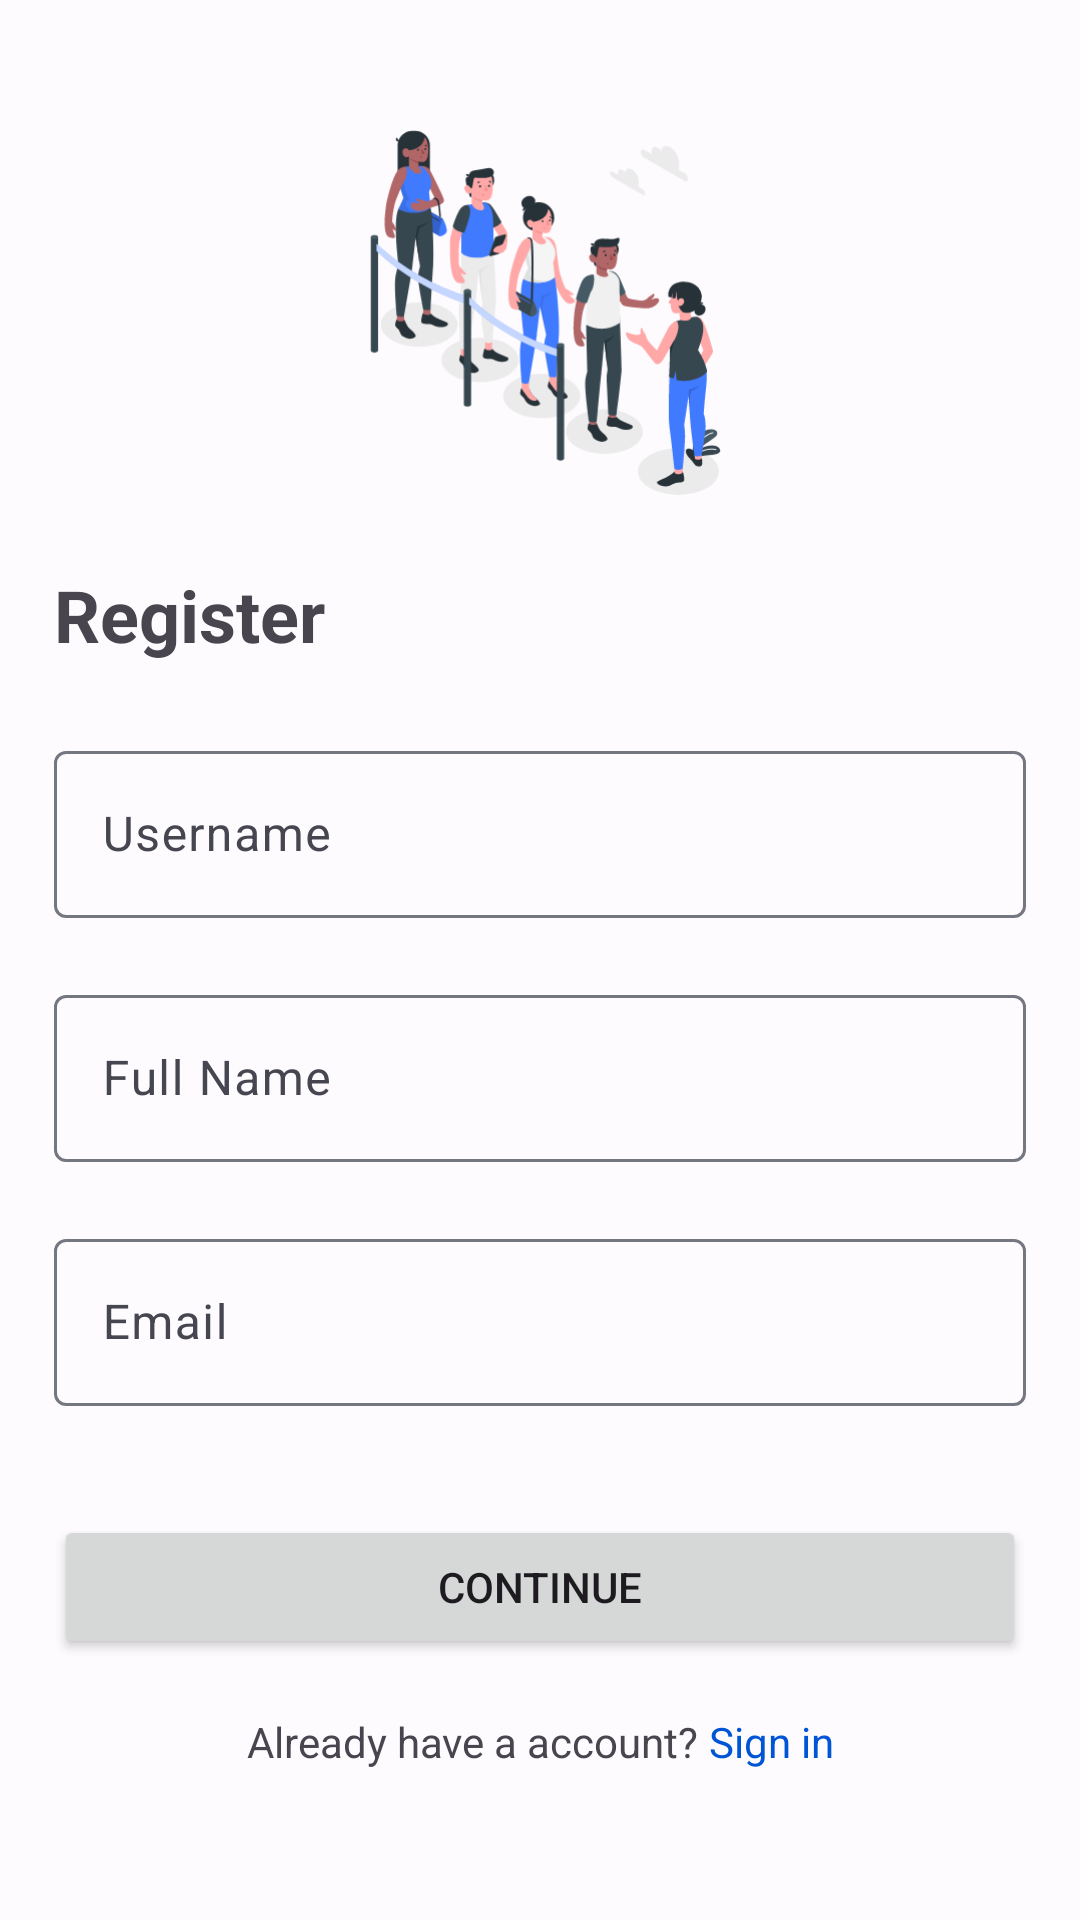

Named icons in this screenshot (1080 x 1920) and their centers, point (x, y):
queue amico: point (545, 308)
